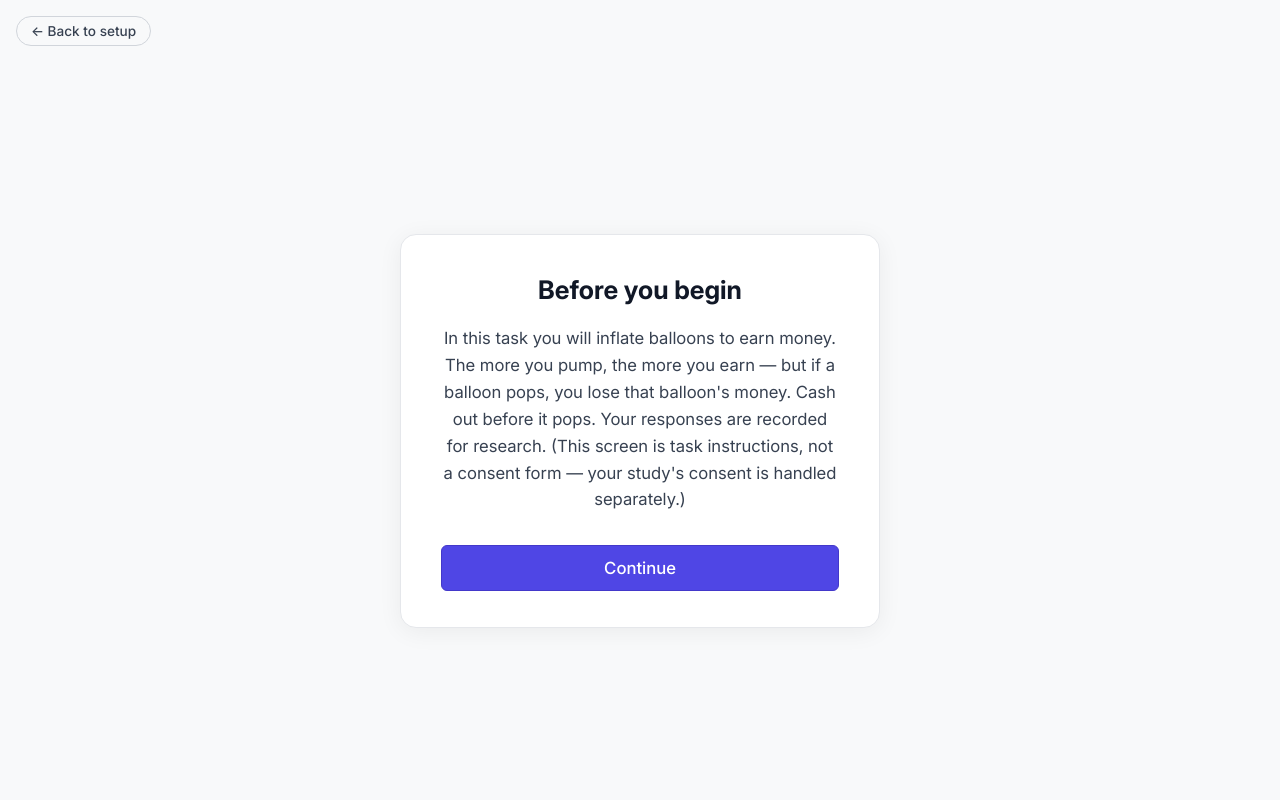
kiosk in-app lock (issue 44) › swallows Escape and F11 into the passcode prompt while locked
Step 1. Press Escape
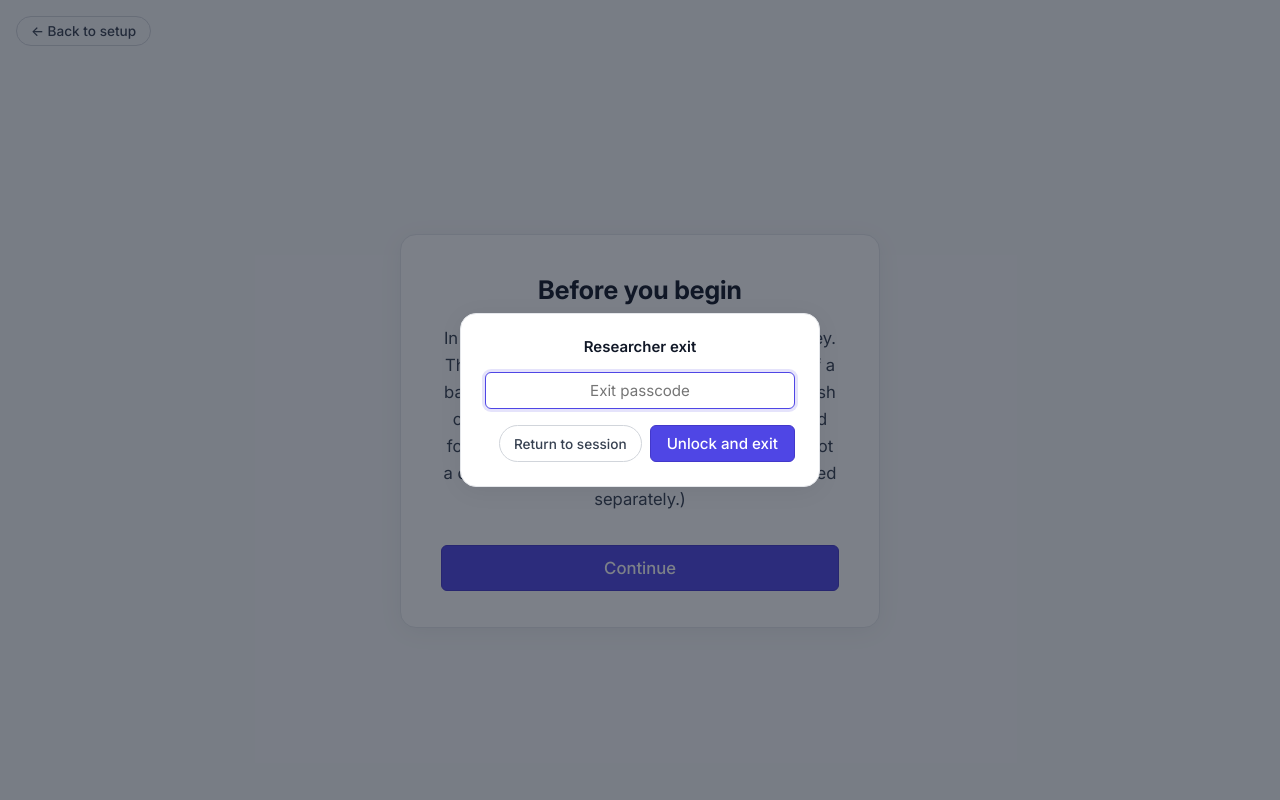
Expected: the heading "Researcher exit" is shown, [584, 337, 696, 356]
Step 2. Click the button "Return to session" → (570, 444), box [499, 425, 642, 462]
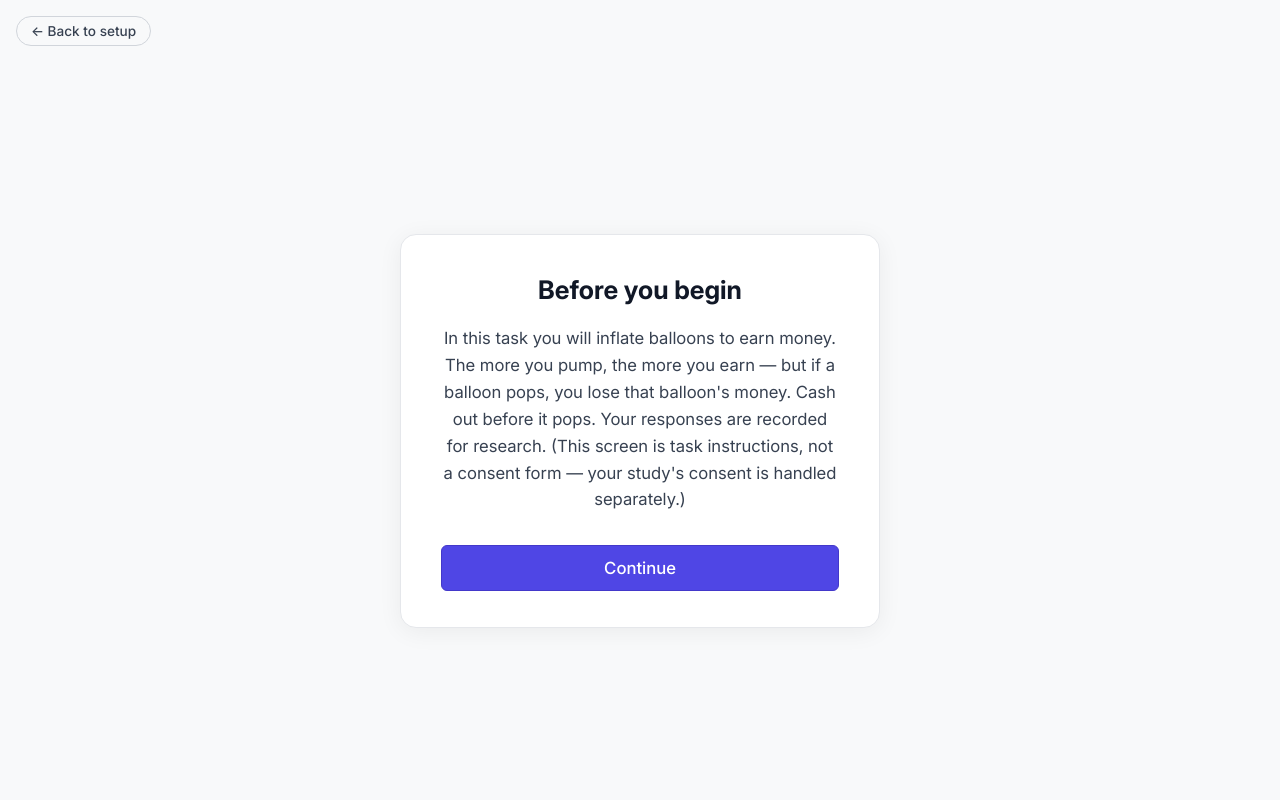
Expected: the heading "Researcher exit" is gone
Step 3. Press F11
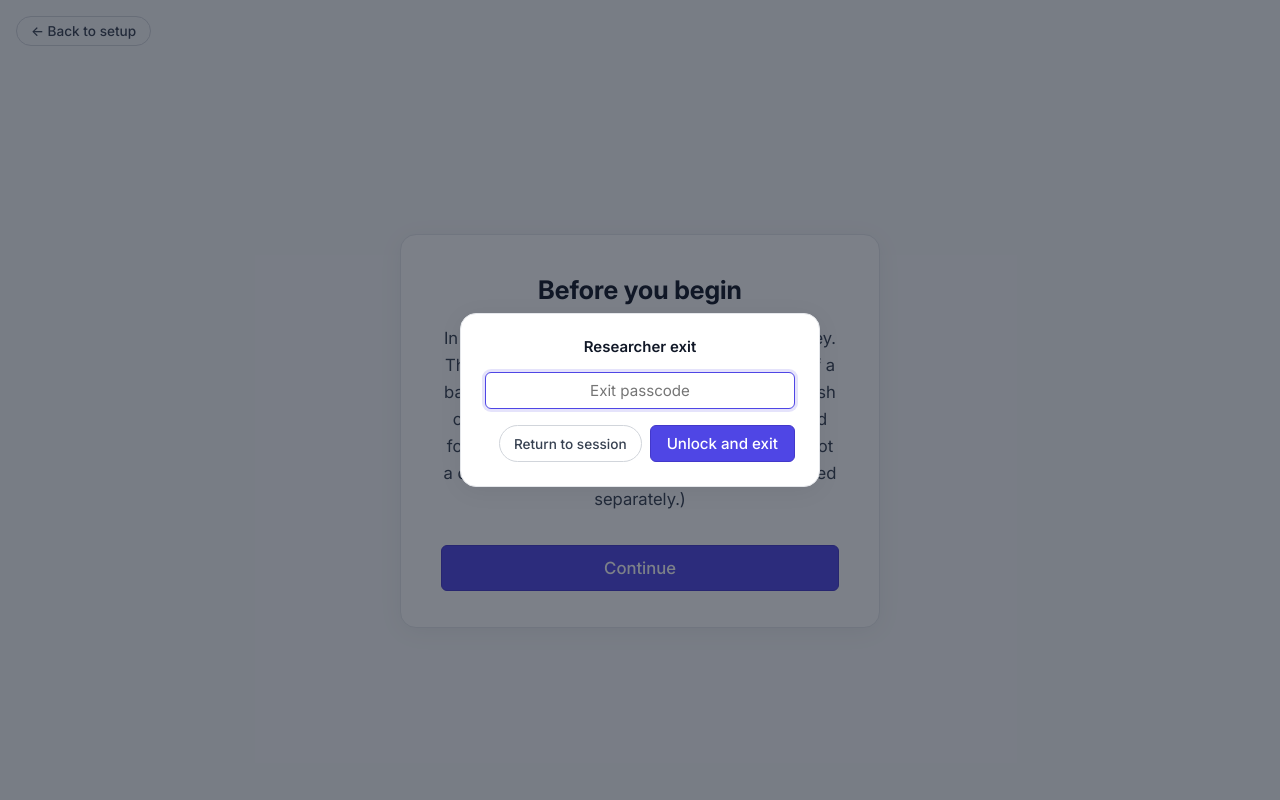
Expected: the heading "Researcher exit" is shown, [584, 337, 696, 356]
